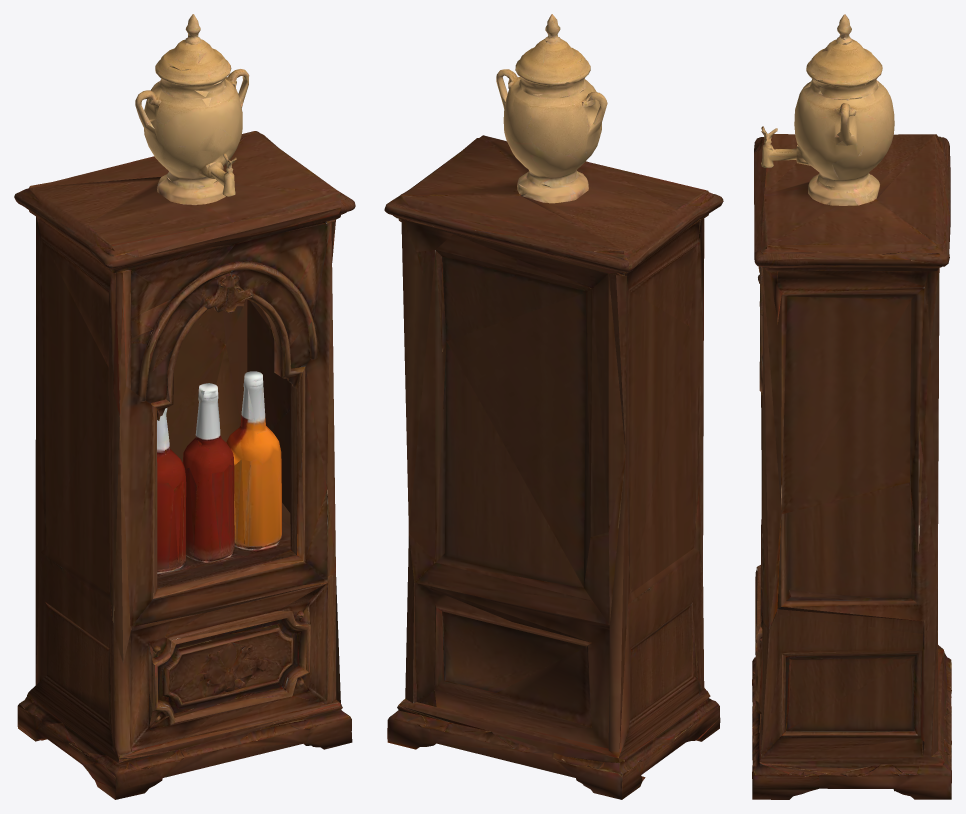
The model's file is perk_hammerfall_lh.glb.
3 views of the same model, side by side, from view 1: azimuth 30°, elevation 25°; view 2: azimuth 150°, elevation 25°; view 3: azimuth 270°, elevation 25° (orthographic).
Parts seen in each view (by area): view 1: perk_hammerfall_lh; view 2: perk_hammerfall_lh; view 3: perk_hammerfall_lh.
Boxes of the visible parts, box(x1,y1,x2,y2) form: perk_hammerfall_lh: box(14, 14, 355, 799); perk_hammerfall_lh: box(384, 14, 723, 799); perk_hammerfall_lh: box(752, 14, 951, 799).
Size of the model in its own units: 0.7589 by 2.1 by 0.5209.
Materials: 1 (1 with a texture image).
